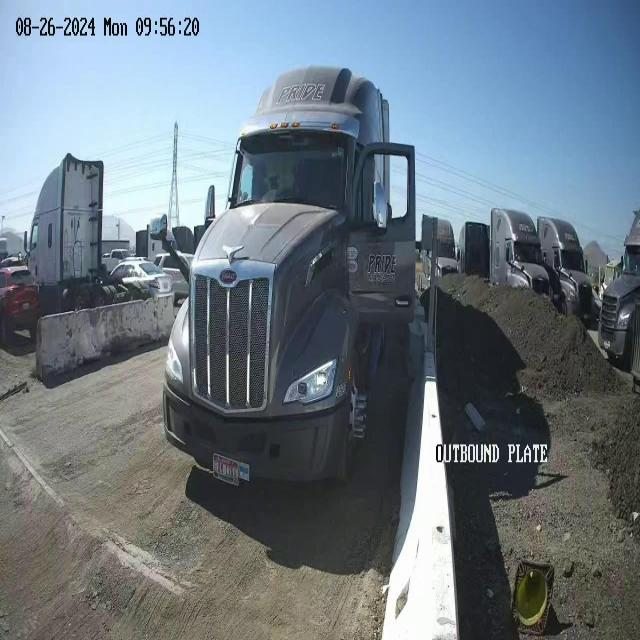TRUCK_OUT: (162, 63, 418, 492)
